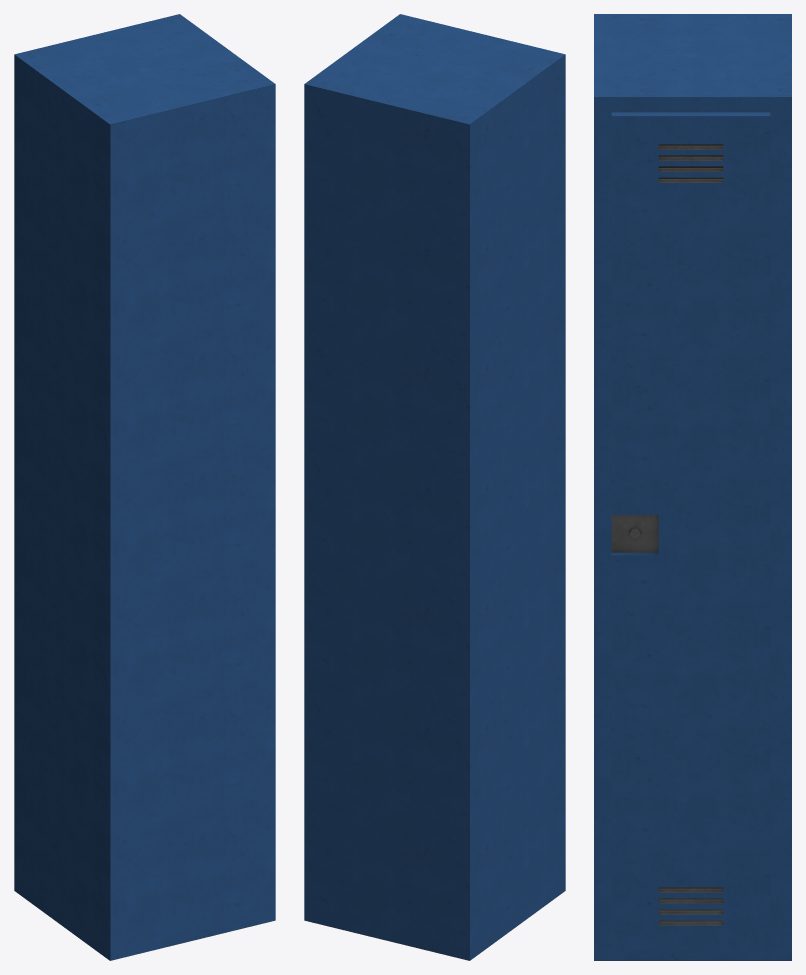
File: locker.fbx
3 renders of one model, left to right at view 1: azimuth 30°, elevation 25°; view 2: azimuth 150°, elevation 25°; view 3: azimuth 270°, elevation 25°, orthographic. The views are drawn at different scales.
Parts seen in each view (by area): view 1: body; view 2: body; view 3: door, body.
Boxes of the visible parts, box(x1,y1,x2,y2) form: body: box(14, 14, 275, 960); body: box(304, 14, 565, 960); door: box(611, 112, 770, 950); body: box(594, 14, 791, 960).
Bounding box in the file's own units: 38.77 × 178 × 37.04.
1 material, 1 textured.
